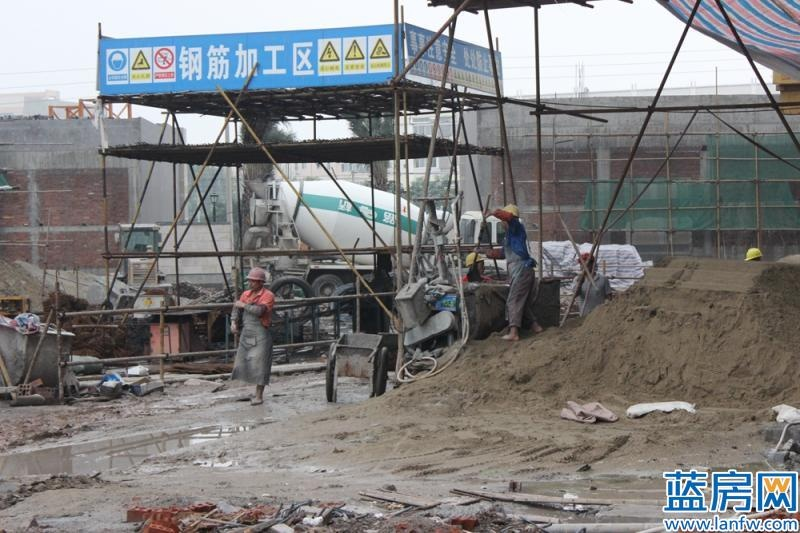red: (245, 267, 266, 291)
yellow: (465, 249, 486, 275), (501, 202, 519, 227), (743, 246, 763, 264)
